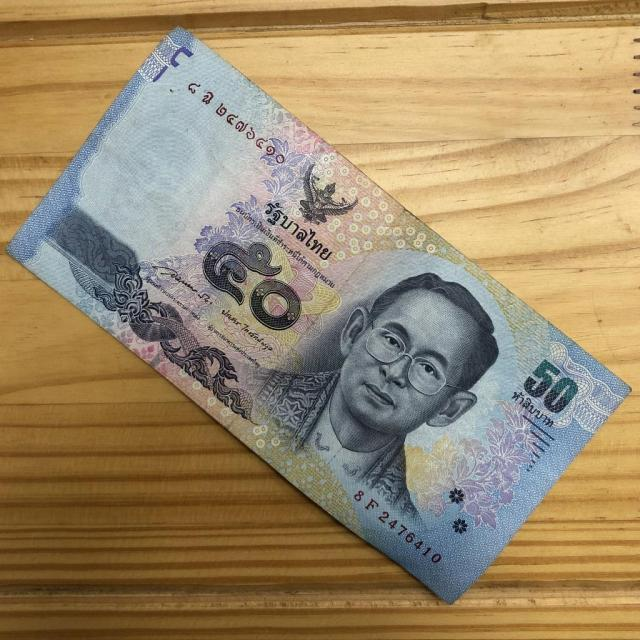THAI50: (8, 27, 629, 603)
